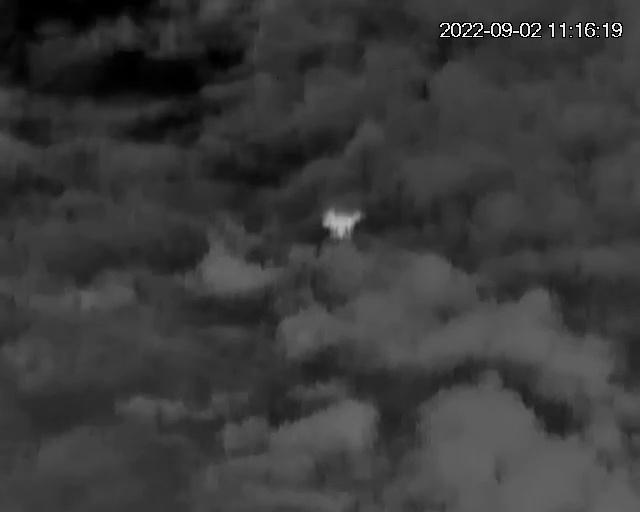DJI-Phantom: (321, 207, 368, 240)
